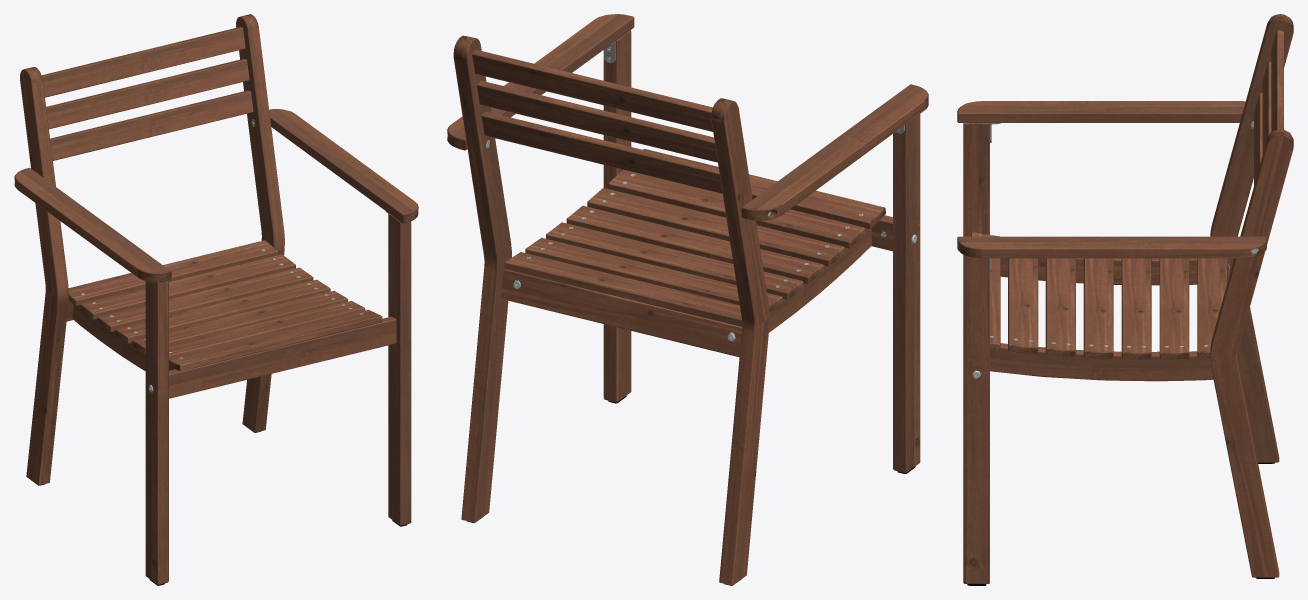
The picture shows the model from 3 angles, left to right: view 1: azimuth 30°, elevation 25°; view 2: azimuth 150°, elevation 25°; view 3: azimuth 270°, elevation 25°; orthographic projection. The views are drawn at different scales.
Visible parts, largest first — view 1: ASY_ART_50535684_S01_NV01; view 2: ASY_ART_50535684_S01_NV01; view 3: ASY_ART_50535684_S01_NV01.
Part boxes in pixels (box(x1,y1,x2,y2)): ASY_ART_50535684_S01_NV01: box(14, 14, 418, 585); ASY_ART_50535684_S01_NV01: box(447, 14, 928, 585); ASY_ART_50535684_S01_NV01: box(957, 14, 1293, 585).
Size of the model in its own units: 0.5881 by 0.8253 by 0.565.
1 material, 1 textured.
